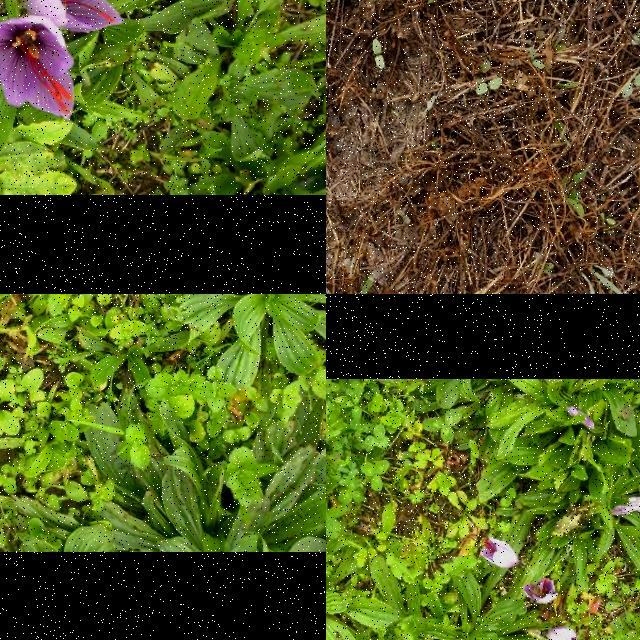flower: (0, 15, 75, 120), (25, 0, 125, 34), (480, 538, 520, 568), (522, 578, 558, 606), (544, 628, 576, 640)
